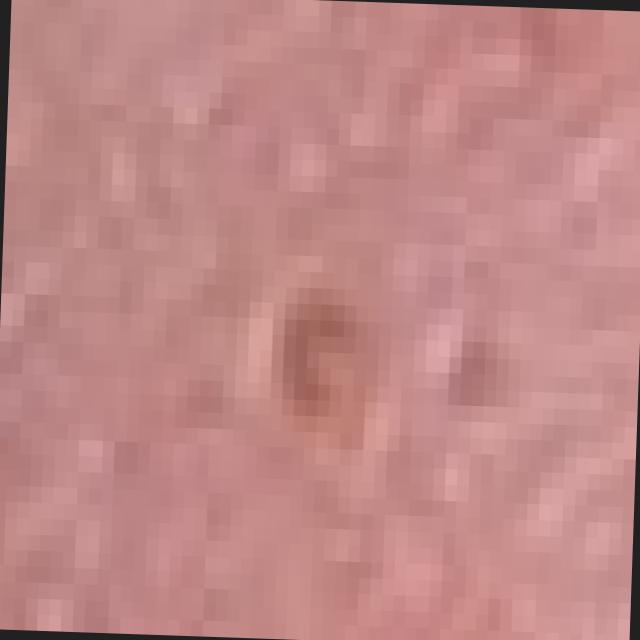blackhead: (276, 293, 358, 422), (450, 337, 515, 410)
